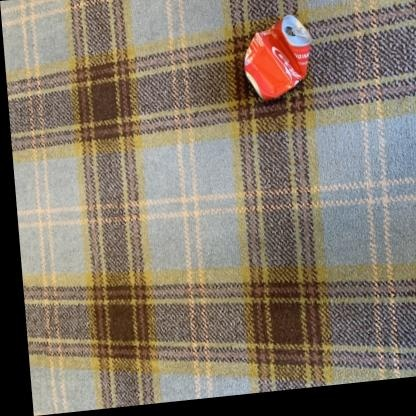trash: (244, 15, 311, 99)
